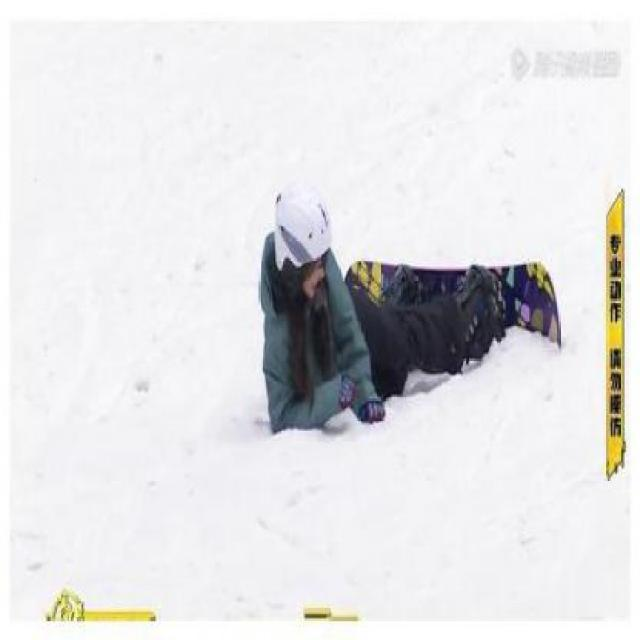fall: (249, 159, 566, 455)
